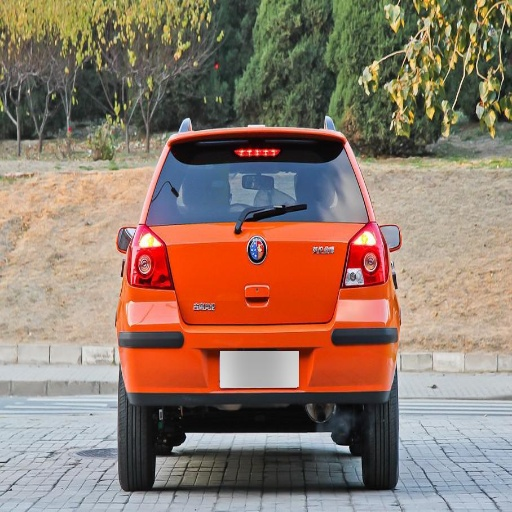back_bumper: (119, 325, 398, 404)
trunk: (129, 201, 385, 345)
